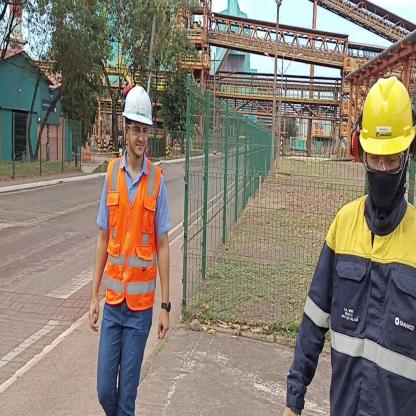Balaclava: (362, 173, 405, 217)
C_eletrica: (293, 194, 416, 414)
Capacete: (345, 69, 415, 157), (118, 84, 156, 126)
colete: (106, 159, 156, 312)
